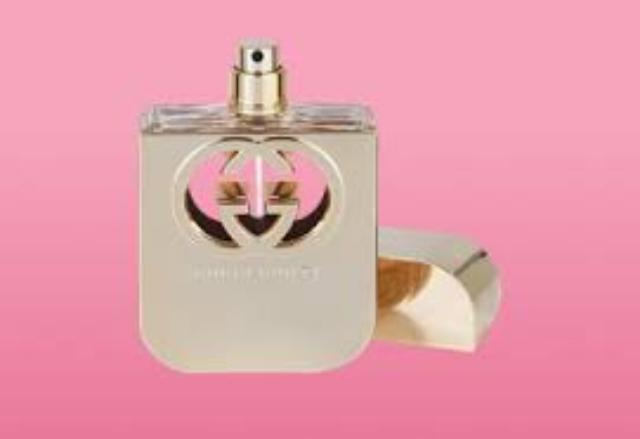Gucci: (169, 135, 349, 287)
